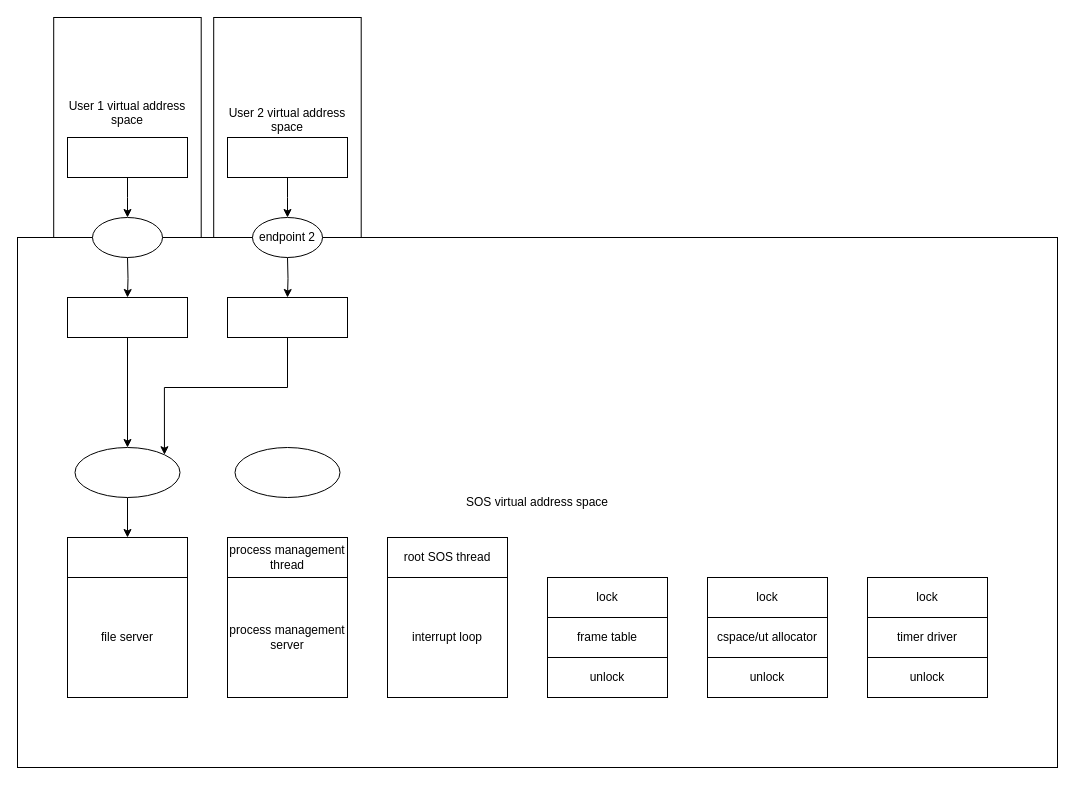
The diagram is 1075 pixels wide and 785 high, and some of its shapes have lost their labels. Here are the shapes that lost their labels. From the top down, the centre of each, then its label:
point 127,157: user thread 1
point 287,157: user thread 2
point 127,237: endpoint 1
point 127,317: SOS thread 1
point 287,317: SOS thread 2
point 127,472: file server endpoint
point 287,472: process management endpoint
point 127,557: file server thread
